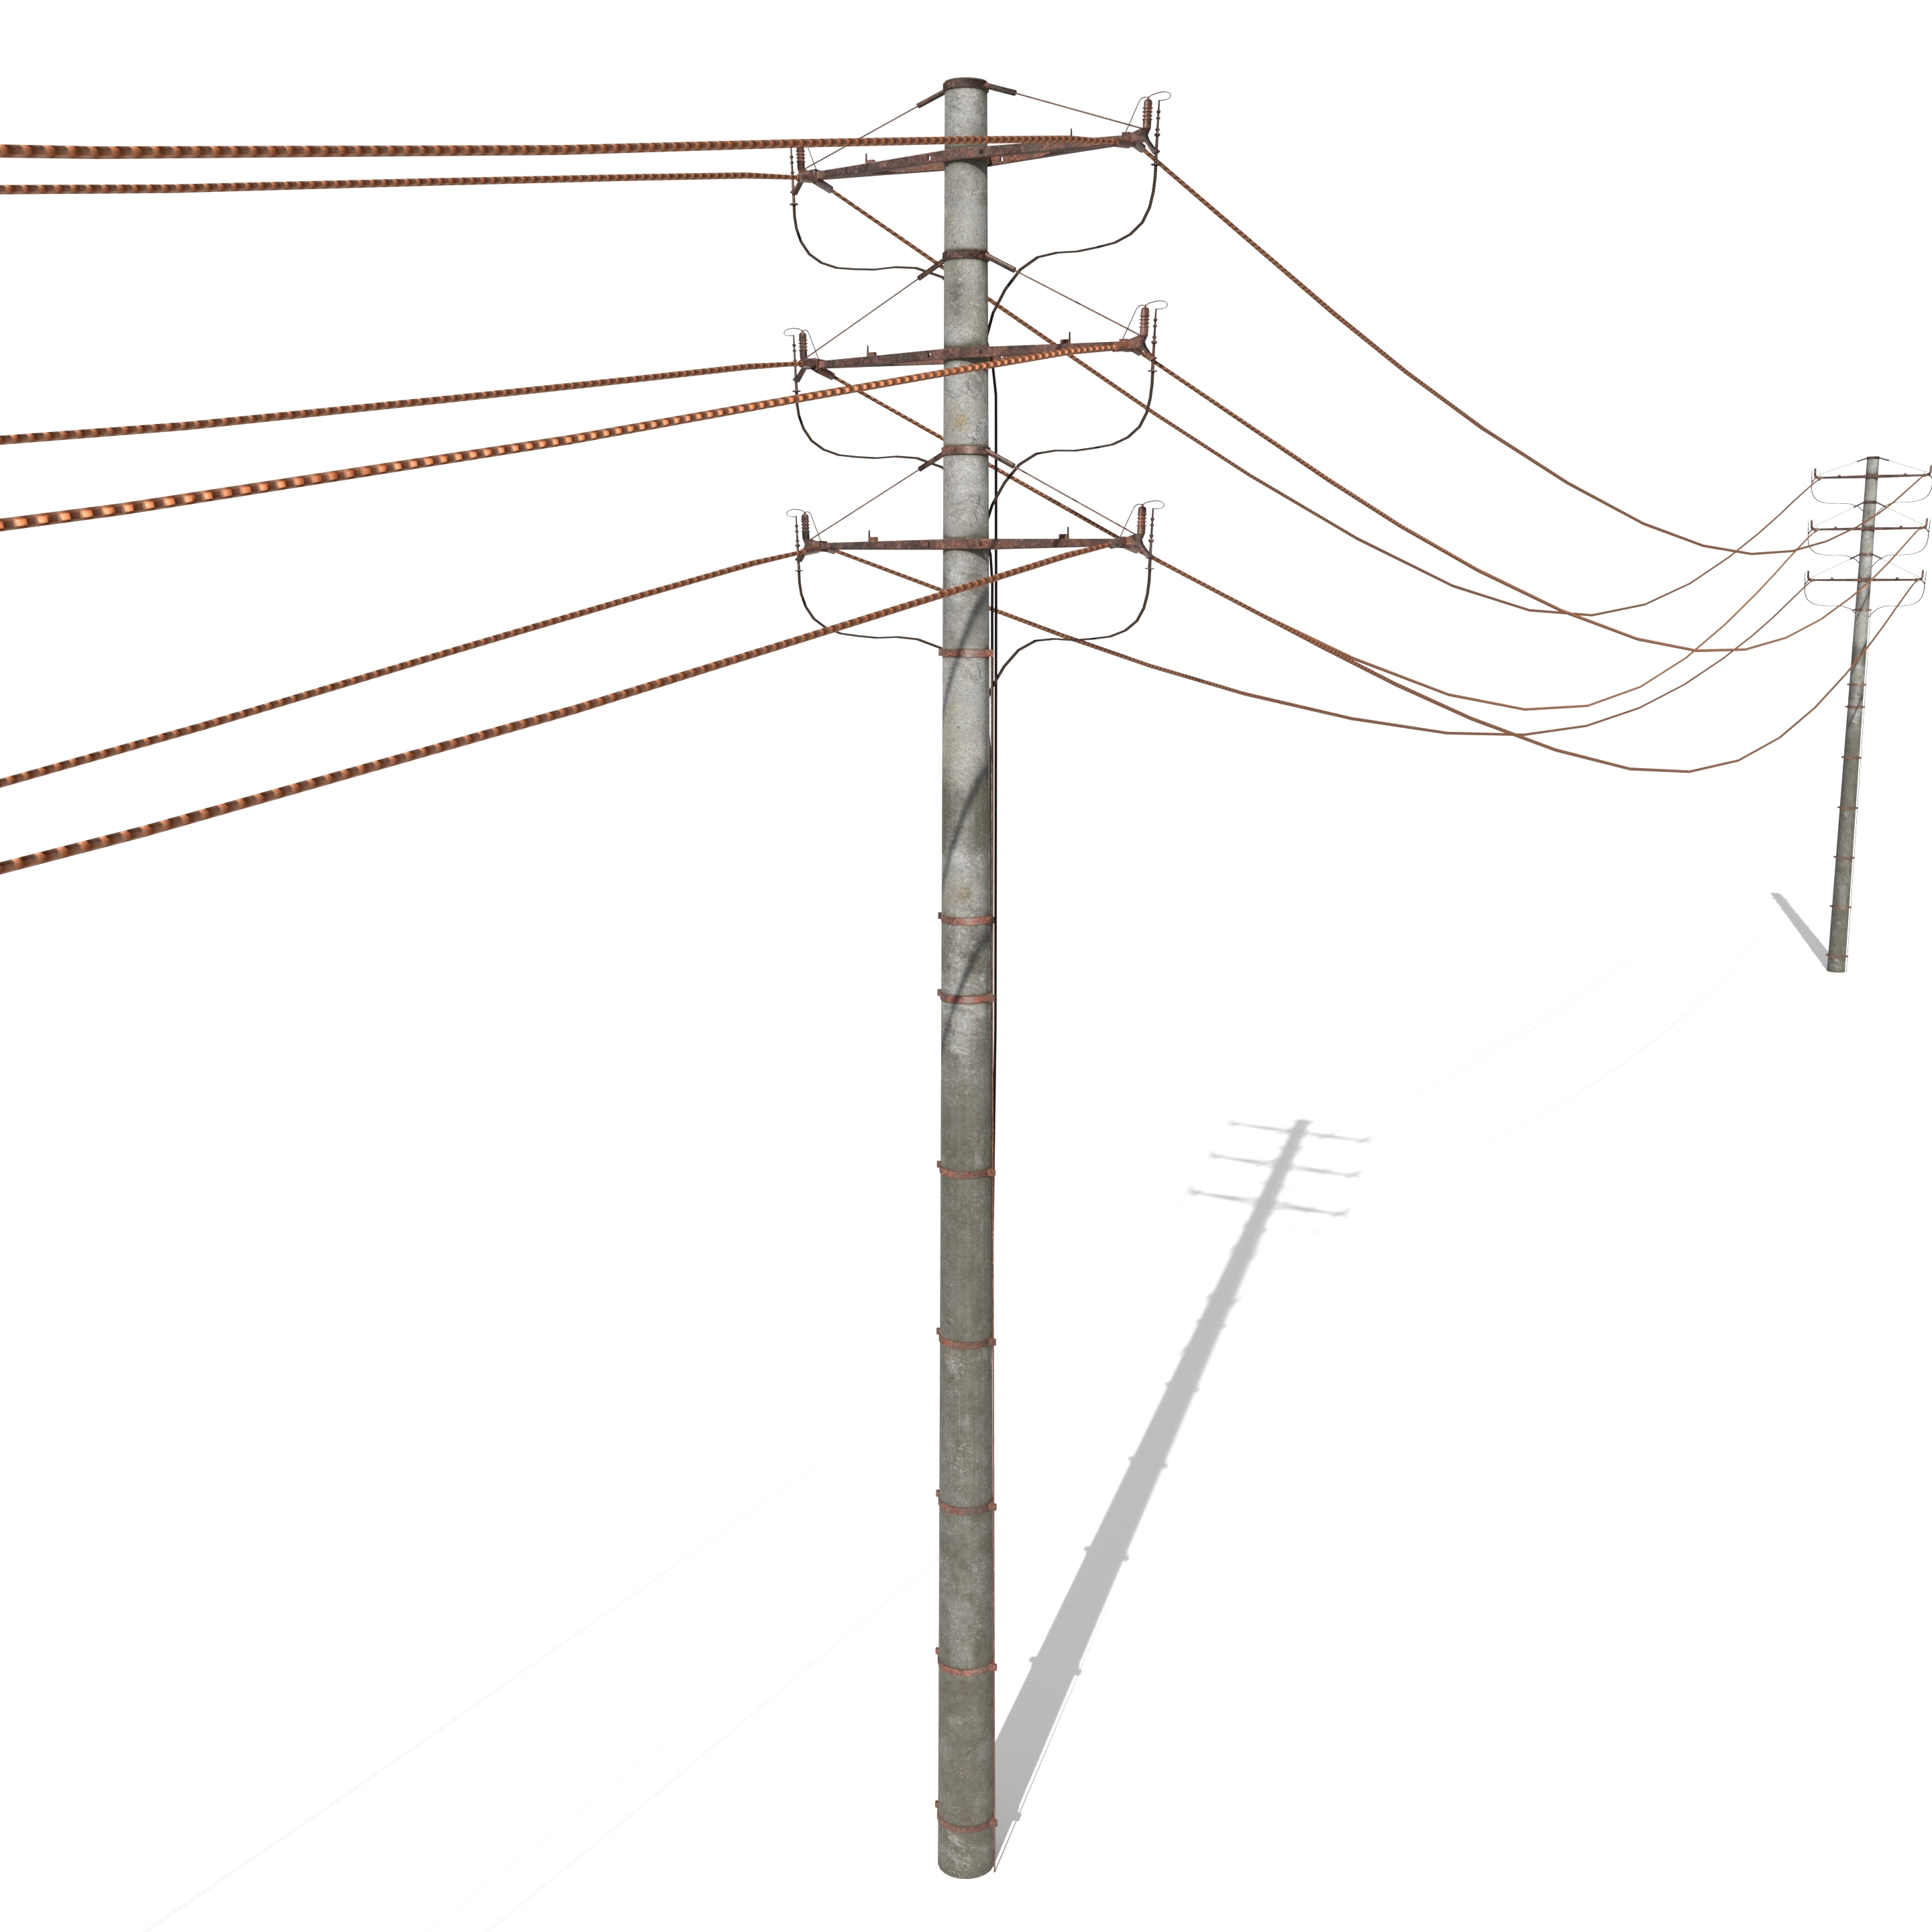utility_pole: (743, 55, 1194, 704), (1787, 425, 1932, 623)
